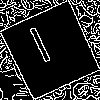I: (25, 25, 59, 73)
